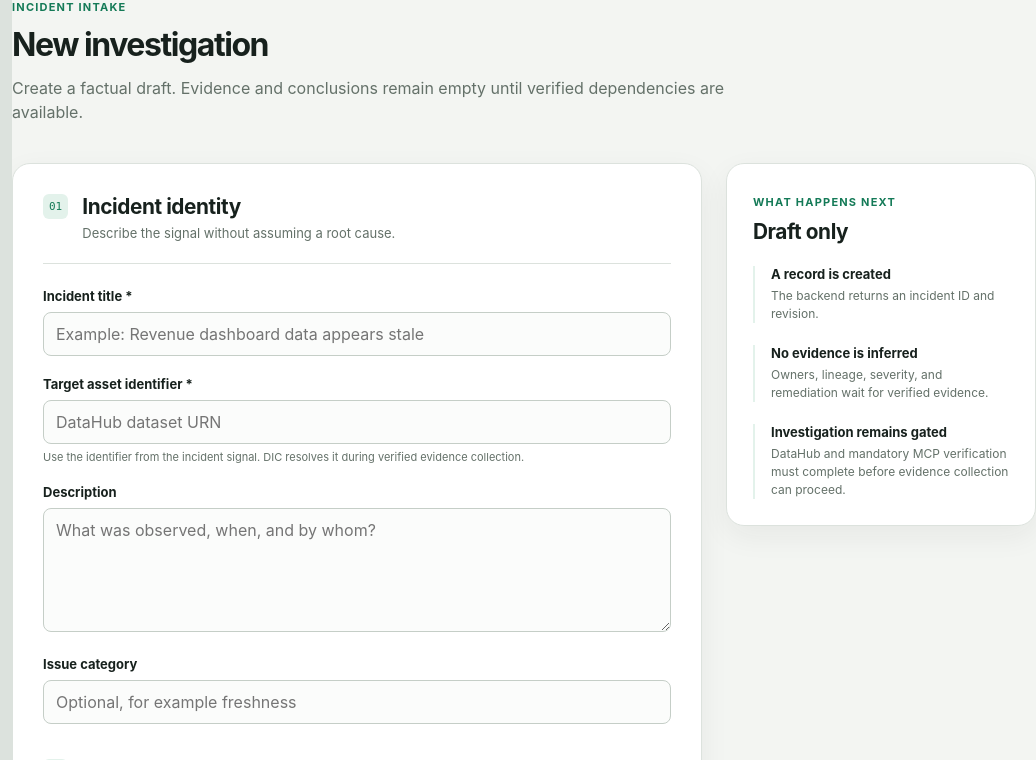
new investigation › renders backend VALIDATION_ERROR with request ID
The image size is (1036, 760).
Type "Valid title" into the field labelled "Incident title *". click: (357, 334)
box: [43,312,671,356]
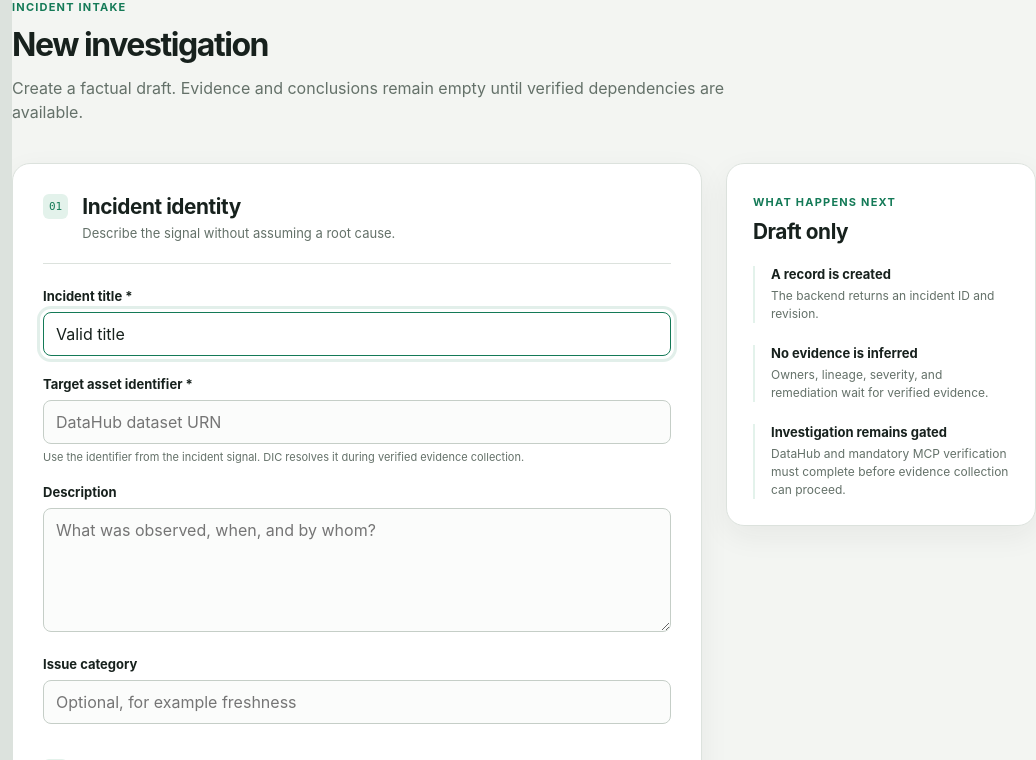
Type "asset:1" into the field labelled "Target asset identifier *". click: (357, 422)
box: [43,400,671,444]
(page scrolled)
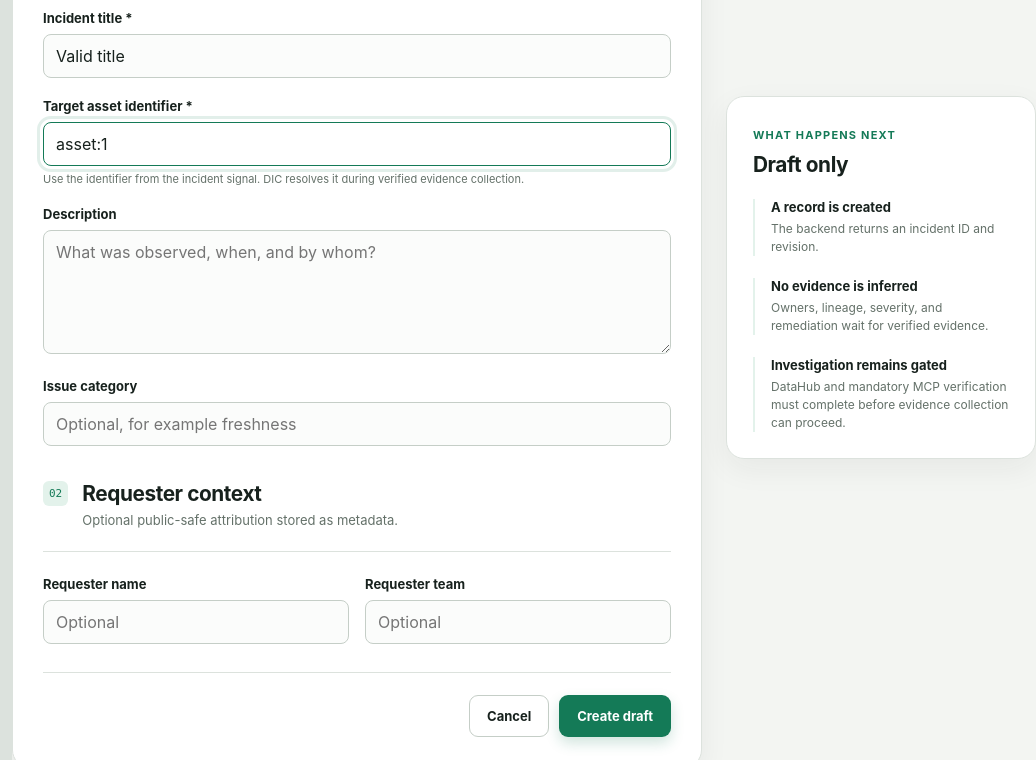
Click the button "Create draft". click: (615, 716)
box: [559,694,671,736]
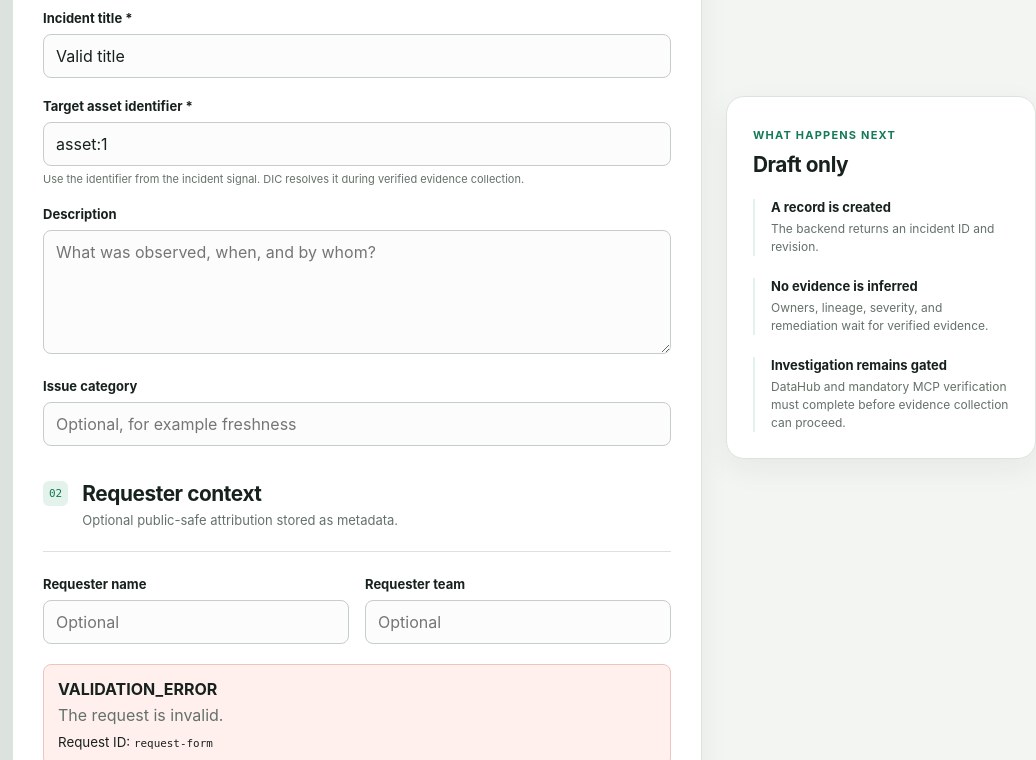
Check: the message shows "The request is invalid.", box [58,704,223,724]
Check: the text "request-form" is shown, box [134,737,213,750]
